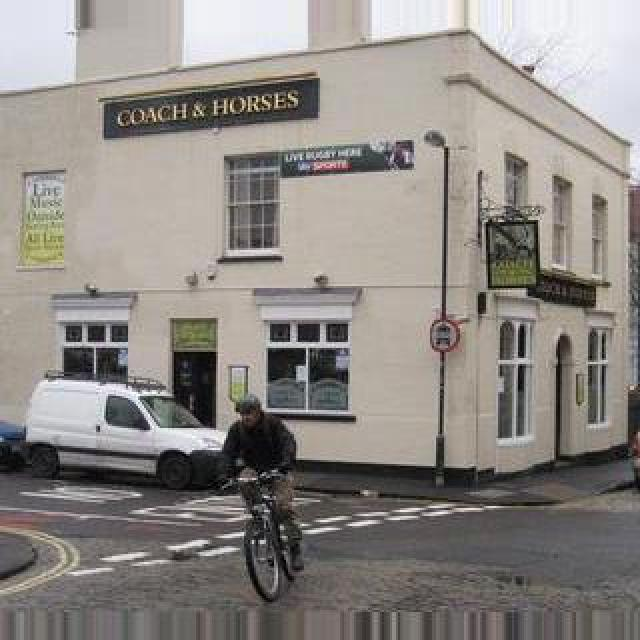MC-Bike: (220, 394, 300, 566)
Person: (228, 464, 306, 604)
Person-Bike: (22, 380, 230, 490)
